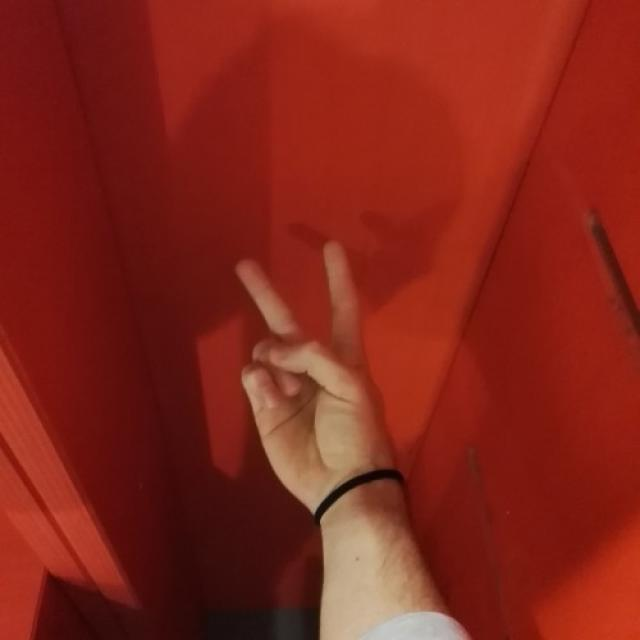scissors: (236, 241, 392, 466)
